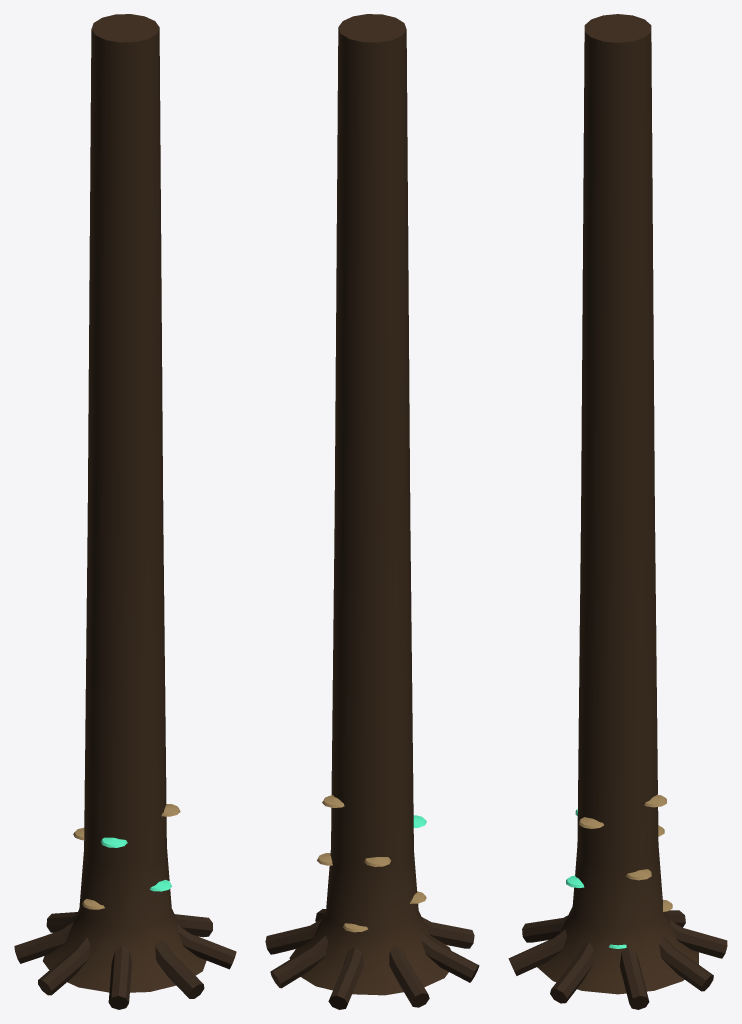
The model's file is giant_trunk.glb.
3 views of the same model, side by side, from view 1: azimuth 30°, elevation 25°; view 2: azimuth 150°, elevation 25°; view 3: azimuth 270°, elevation 25° (orthographic).
Parts seen in each view (by area): view 1: giant_trunk; view 2: giant_trunk; view 3: giant_trunk.
Part boxes in pixels (left/top/right/bottom): giant_trunk: left=14, top=14, right=236, bottom=1009; giant_trunk: left=265, top=14, right=479, bottom=1009; giant_trunk: left=508, top=14, right=727, bottom=1009.
Size of the model in its own units: 8.96 by 42.35 by 8.96.
